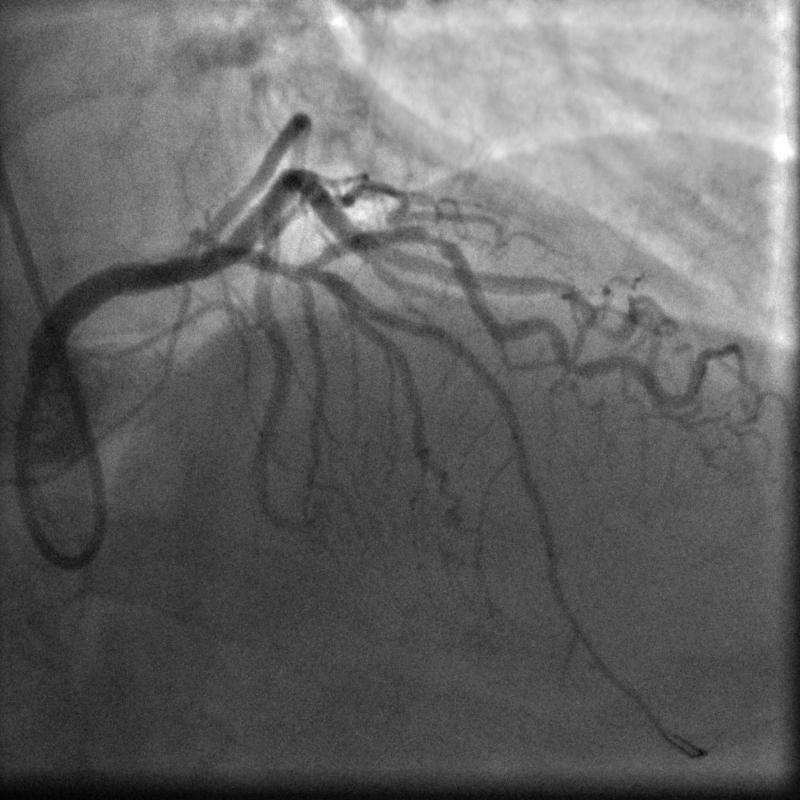Stenosis: (413, 222, 458, 258)
